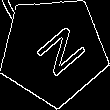N_SW: (22, 19, 85, 82)
